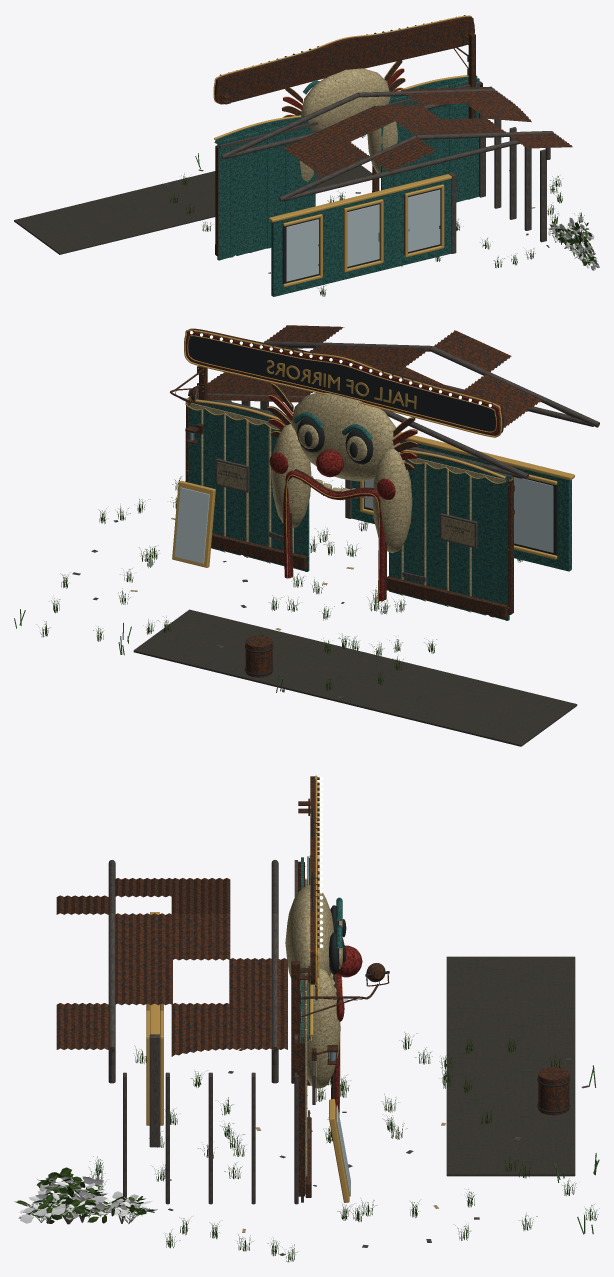
The model's file is SM_Env_Tile_p1_p0.fbx.
3 views of the same model, one above another, from view 1: azimuth 30°, elevation 25°; view 2: azimuth 150°, elevation 25°; view 3: azimuth 270°, elevation 25° (orthographic). The views are drawn at different scales.
Parts seen in each view (by area): view 1: SM_Env_Tile_p1_p0; view 2: SM_Env_Tile_p1_p0; view 3: SM_Env_Tile_p1_p0.
Boxes of the visible parts, <box> form: SM_Env_Tile_p1_p0: <box>14,14,599,296</box>; SM_Env_Tile_p1_p0: <box>14,325,599,746</box>; SM_Env_Tile_p1_p0: <box>14,775,599,1262</box>.
Size of what is drawn, in the model's own units: 1694 by 1366 by 704.
Materials: 19 (10 with a texture image).
